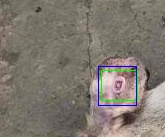text: (101, 70, 137, 100)
